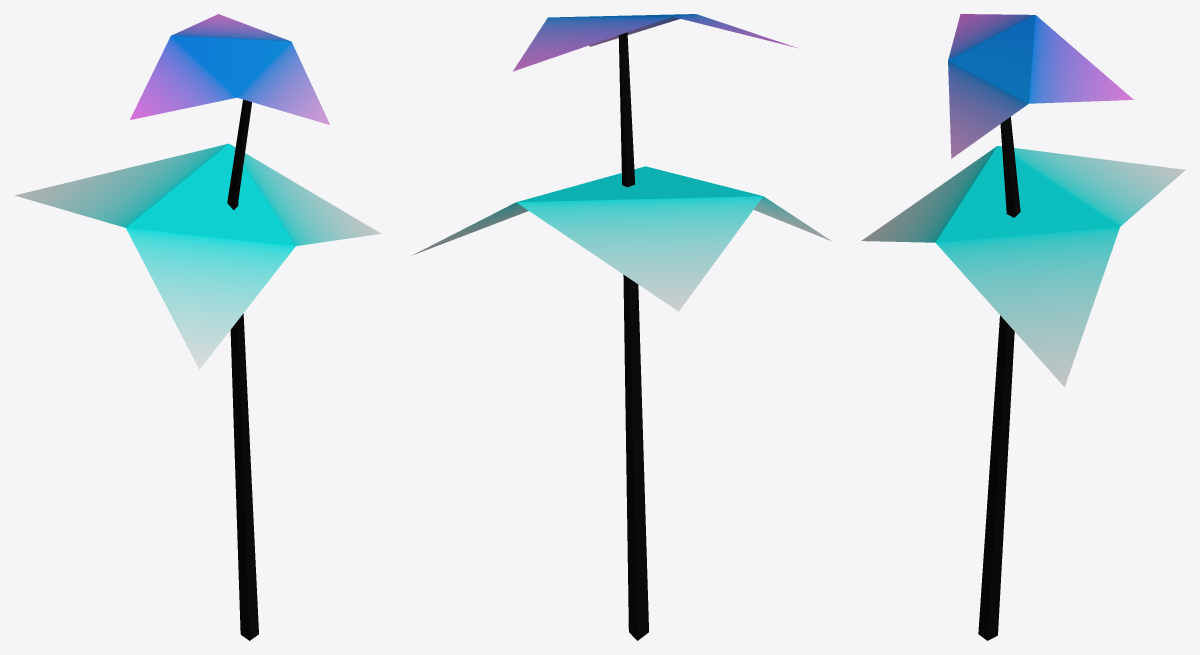
The model's file is trillium_ovatum_lp_b.dae.
The picture shows the model from 3 angles, left to right: view 1: azimuth 30°, elevation 25°; view 2: azimuth 150°, elevation 25°; view 3: azimuth 270°, elevation 25°; orthographic projection. The views are drawn at different scales.
Parts seen in each view (by area): view 1: trillium8; view 2: trillium8; view 3: trillium8.
Part boxes in pixels (x1,y1,x2,y2): trillium8: (14,14,380,640); trillium8: (412,14,831,640); trillium8: (861,14,1185,640).
Size of the model in its own units: 0.2065 by 0.1901 by 0.3847.
